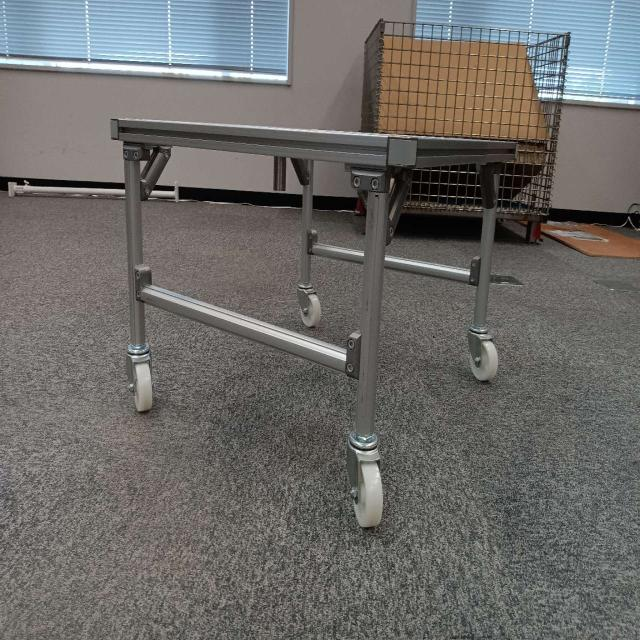door: (379, 133, 501, 242)
side: (123, 116, 379, 384)
